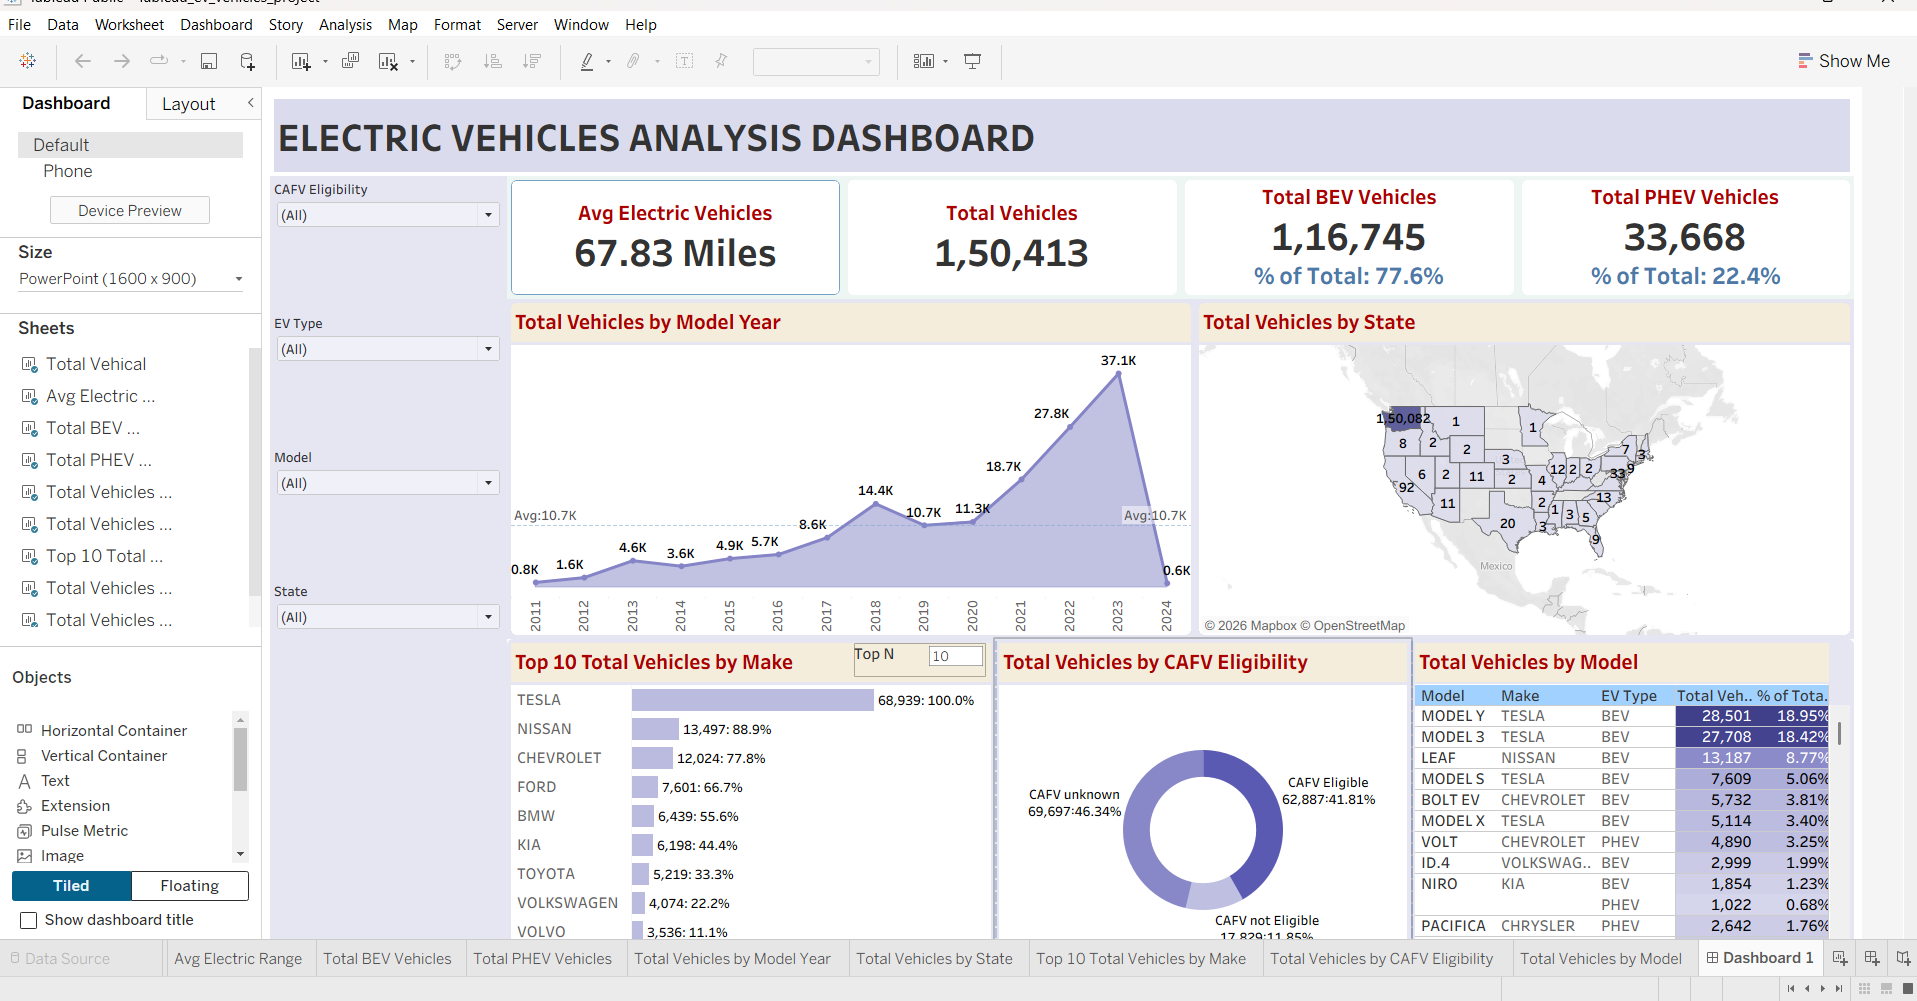

What the dashboard file says about the page in this screenshot:
{"tool":"tableau","page":{"name":"Dashboard 1","canvas":[1600,900],"ordinal":0},"visuals":[{"type":"title","box":[8,8,1584,81]},{"type":"filter","title":"Total Vehicles by Model Year","param":"[federated.1o6xwwt0zjnr4p1gbzy6q0uutwfc].[none:Clean Alternative Fuel Vehicle (C","box":[8,89,237,134]},{"type":"worksheet","title":"Avg Electric Range","mark":"Automatic","box":[245,89,337,123]},{"type":"worksheet","title":"Total Vehical","mark":"Automatic","box":[582,89,337,123]},{"type":"worksheet","title":"Total BEV Vehicles","mark":"Automatic","box":[919,89,337,123]},{"type":"worksheet","title":"Total PHEV Vehicles","mark":"Automatic","box":[1256,89,336,123]},{"type":"worksheet","title":"Total Vehicles by Model Year","mark":"Area","rows":["Calculation_0876083432620033","Calculation_0876083432620033"],"cols":["Model Year"],"box":[245,212,688,340]},{"type":"worksheet","title":"Total Vehicles by State","mark":"Multipolygon","box":[933,212,659,340]},{"type":"filter","title":"Total Vehicles by Model Year","param":"[federated.1o6xwwt0zjnr4p1gbzy6q0uutwfc].[none:Electric Vehicle Type:nk]","box":[8,223,237,134]},{"type":"filter","title":"Total Vehicles by Model Year","param":"[federated.1o6xwwt0zjnr4p1gbzy6q0uutwfc].[none:Model:nk]","box":[8,357,237,134]},{"type":"filter","title":"Total Vehicles by Model Year","param":"[federated.1o6xwwt0zjnr4p1gbzy6q0uutwfc].[none:State:nk]","box":[8,491,237,134]},{"type":"worksheet","title":"Top 10 Total Vehicles by Make","mark":"Automatic","rows":["Make"],"cols":["Calculation_0876083432620033"],"box":[245,552,488,340]},{"type":"worksheet","title":"Total Vehicles by CAFV Eligibility","mark":"Pie","rows":["Calculation_0586637401427969","Calculation_0586637401427969"],"box":[733,552,416,340]},{"type":"worksheet","title":"Total Vehicles by Model","mark":"Square","rows":["Model","Make","Electric Vehicle Type"],"box":[1149,552,443,340]},{"type":"parameter","param":"[Parameters].[Parameter 0831278406713346]","box":[592,556,132,34]},{"type":"blank","box":[8,625,237,134]},{"type":"blank","box":[8,759,237,133]}]}

Visuals, with their boxes on the page's 1600x900 design canvas (x1, y1, x2, y2). These are canvas units, not pixel positions in the 1917x1001 screenshot, which may show the page scaled, cropped or inside an application window:
title: bbox=[8, 8, 1592, 89]
"Total Vehicles by Model Year" filter: bbox=[8, 89, 245, 223]
"Avg Electric Range" worksheet: bbox=[245, 89, 582, 212]
"Total Vehical" worksheet: bbox=[582, 89, 919, 212]
"Total BEV Vehicles" worksheet: bbox=[919, 89, 1256, 212]
"Total PHEV Vehicles" worksheet: bbox=[1256, 89, 1592, 212]
"Total Vehicles by Model Year" worksheet (Area marks): bbox=[245, 212, 933, 552]
"Total Vehicles by State" worksheet (Multipolygon marks): bbox=[933, 212, 1592, 552]
"Total Vehicles by Model Year" filter: bbox=[8, 223, 245, 357]
"Total Vehicles by Model Year" filter: bbox=[8, 357, 245, 491]
"Total Vehicles by Model Year" filter: bbox=[8, 491, 245, 625]
"Top 10 Total Vehicles by Make" worksheet: bbox=[245, 552, 733, 892]
"Total Vehicles by CAFV Eligibility" worksheet (Pie marks): bbox=[733, 552, 1149, 892]
"Total Vehicles by Model" worksheet (Square marks): bbox=[1149, 552, 1592, 892]
parameter: bbox=[592, 556, 724, 590]
blank: bbox=[8, 625, 245, 759]
blank: bbox=[8, 759, 245, 892]
